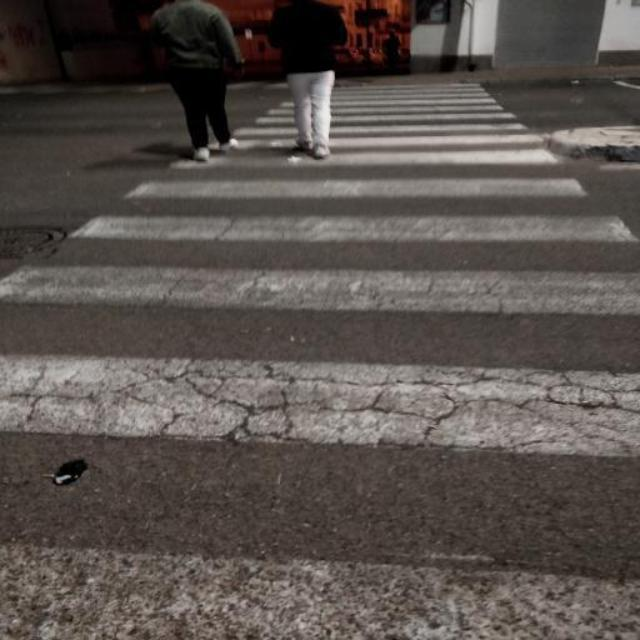sidewalk: (1, 83, 639, 639)
